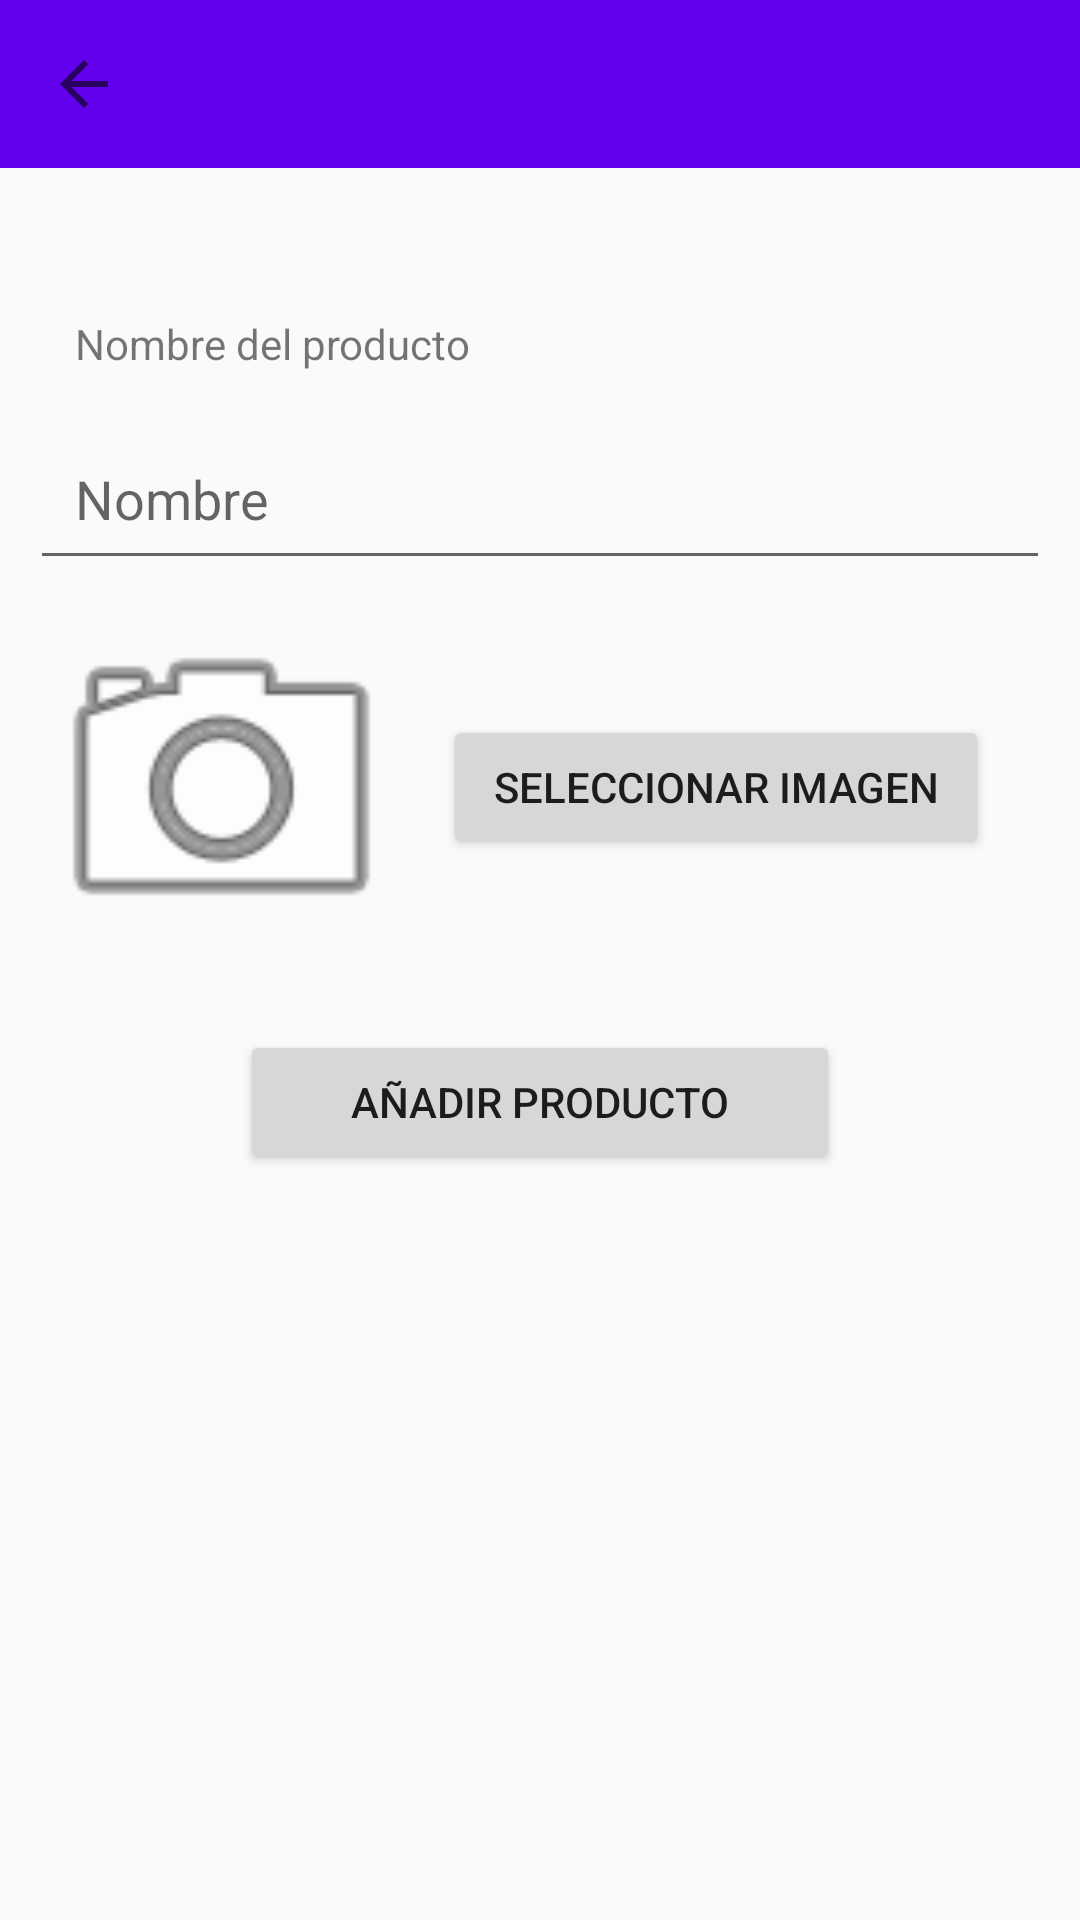

Named icons in this screenshot (1080px x 1920px) and their bounding boxes, (x1, y1, x2, y2):
camera: (73, 658, 370, 895)
